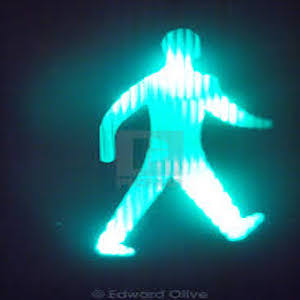green: (73, 22, 279, 261)
